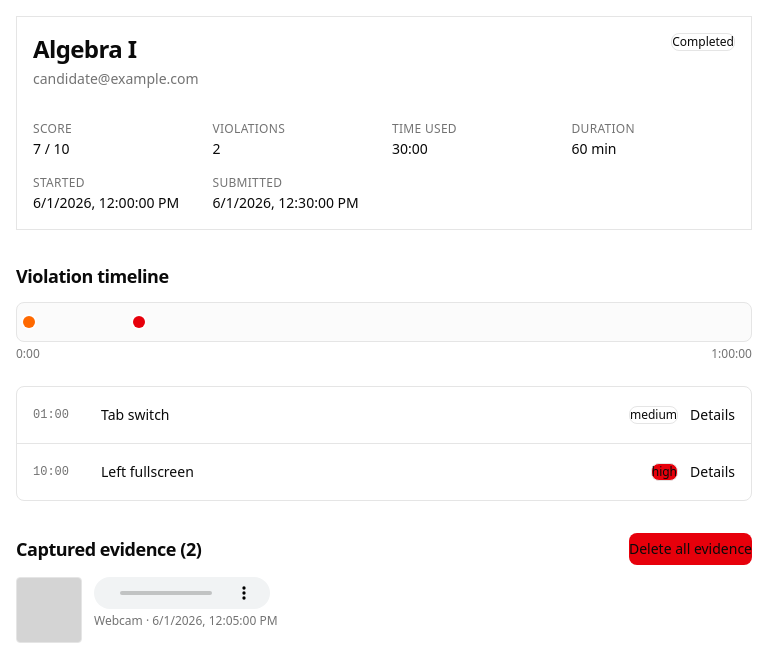
it: AttemptReportPage › deletes evidence and refreshes the gallery
Expected: the heading "Captured evidence (2)" is shown, [16,535,201,563]
Click the button "Delete all evidence".
click(690, 549)  # box [629,533,752,565]
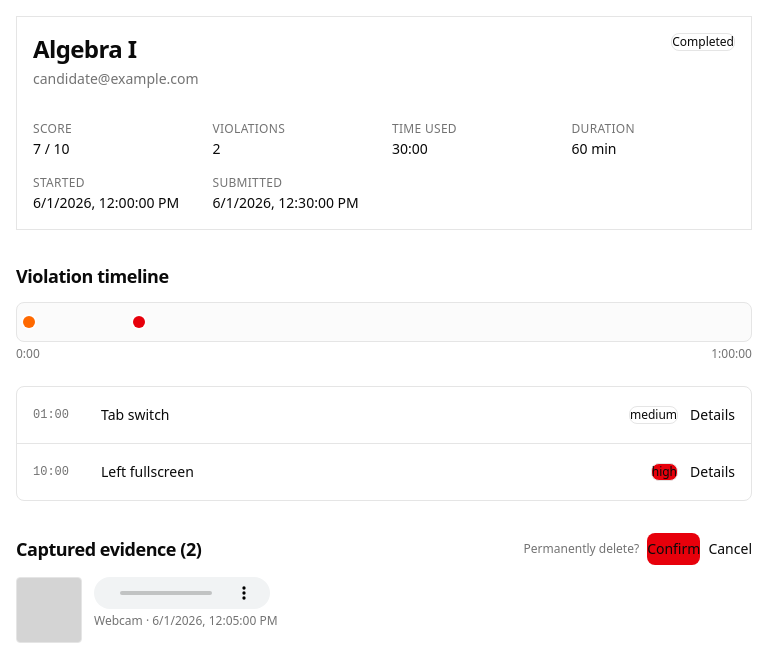
Click the button "Confirm".
click(674, 549)  # box [647,533,700,565]
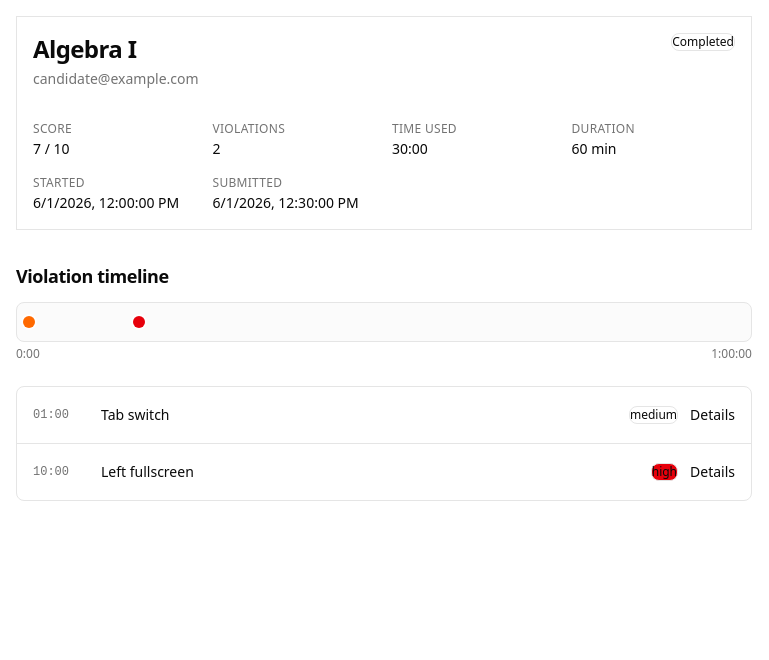
Now the heading "Captured evidence" is gone
